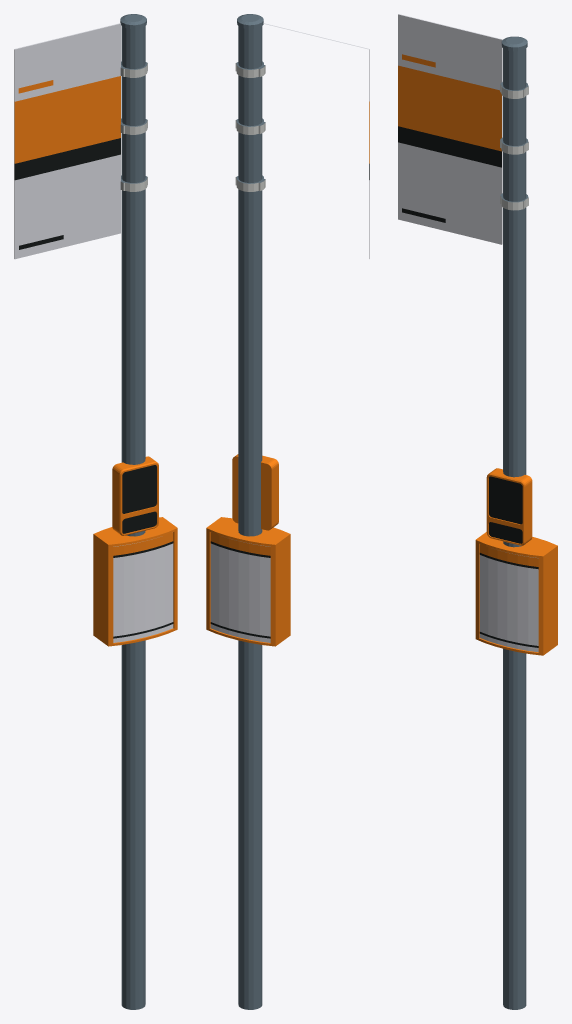
The model's file is bus-stop-sign.glb.
The picture shows the model from 3 angles, left to right: view 1: azimuth 30°, elevation 25°; view 2: azimuth 150°, elevation 25°; view 3: azimuth 330°, elevation 25°; orthographic projection. The views are drawn at different scales.
Visible parts, largest first — view 1: Bussy; view 2: Bussy; view 3: Bussy.
Part boxes in pixels (left/top/right/bottom): Bussy: left=14, top=14, right=177, bottom=1009; Bussy: left=206, top=14, right=369, bottom=1009; Bussy: left=398, top=14, right=557, bottom=1009.
Bounding box in the file's own units: 4 × 24.23 × 0.9318.
1 material, 1 textured.
